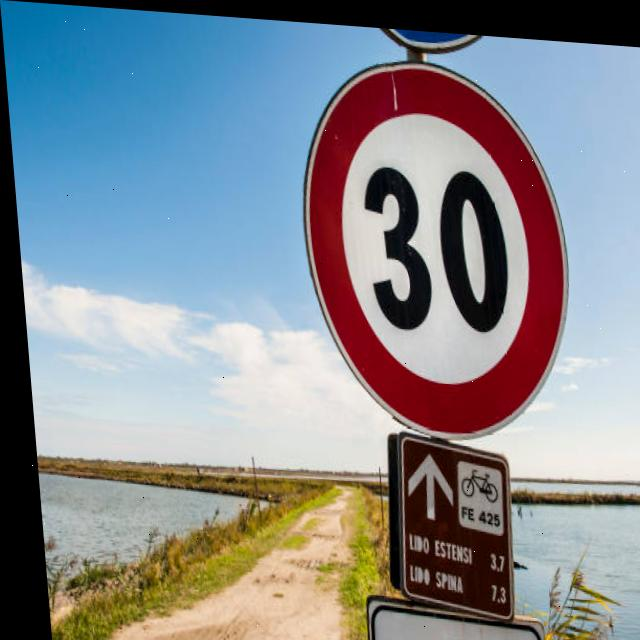Speed limit 30: (287, 44, 578, 442)
